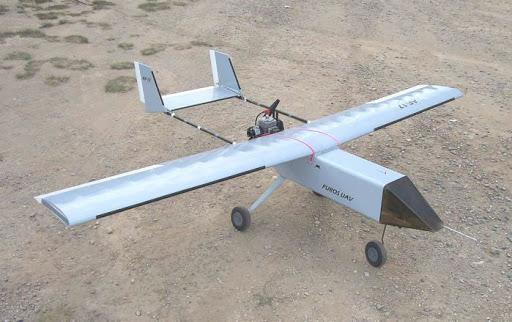Airplane: (34, 24, 478, 294)
